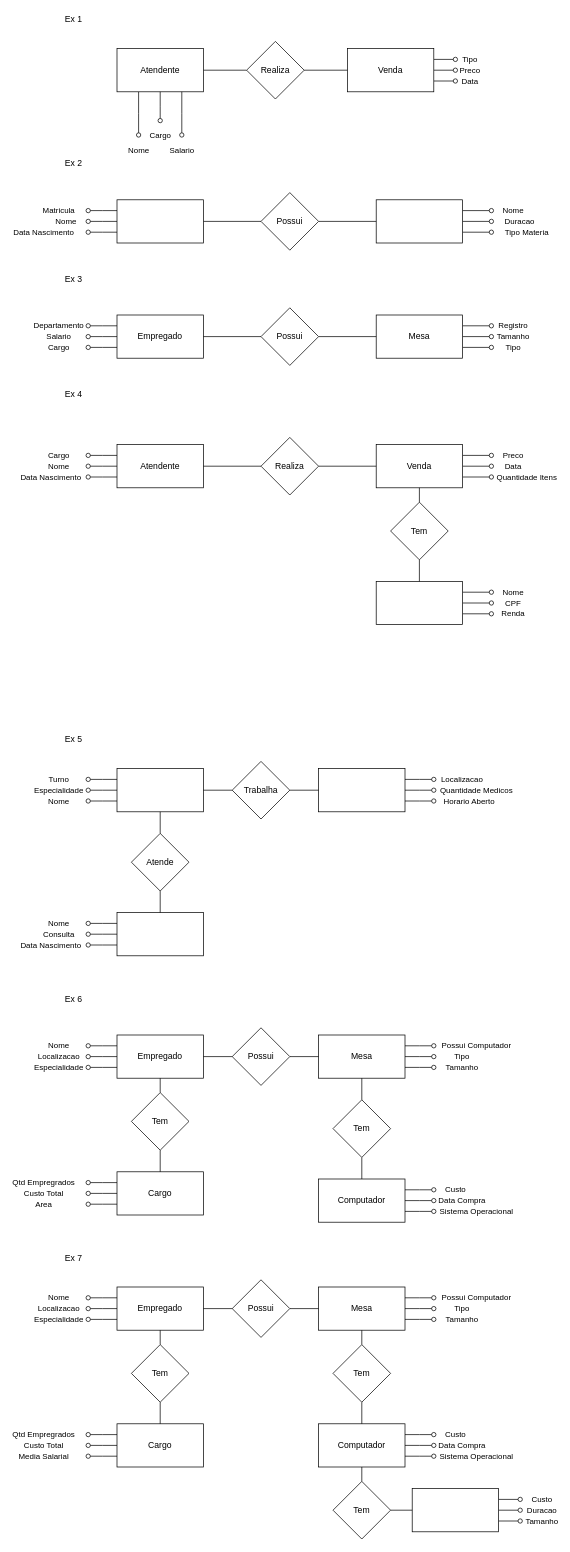
The diagram is 570 pixels wide and 1552 high, and some of its shapes have lost their labels. The shapes that lost their labels are listed below. From the top down, each one's centre as x and y in pixels, then its label:
At point (159, 221): "Aluno".
At point (419, 221): "Curso".
At point (419, 603): "Cliente".
At point (159, 790): "Medico".
At point (361, 790): "Consultorio".
At point (159, 934): "Paciente".
At point (455, 1510): "Aplicativo".
